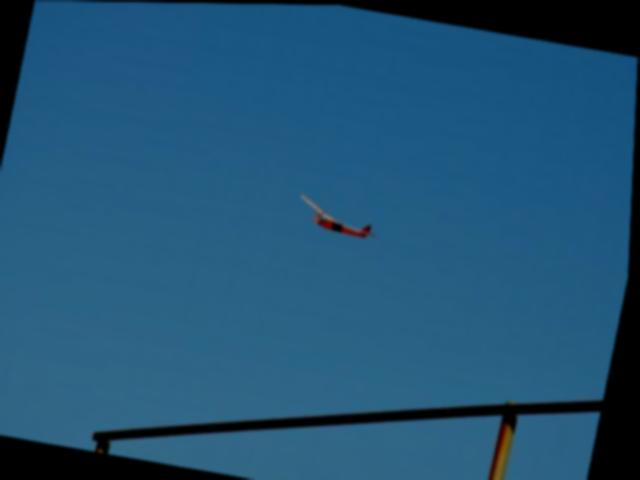iha: (298, 197, 384, 244)
